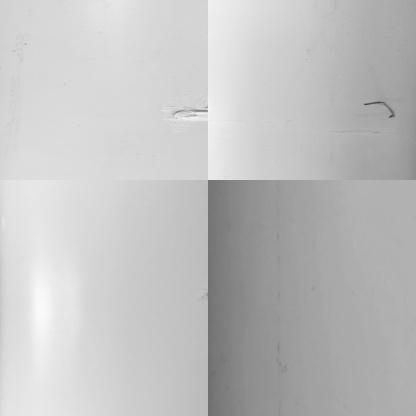fengxi: (362, 95, 396, 120)
sunshang: (164, 102, 212, 125)
